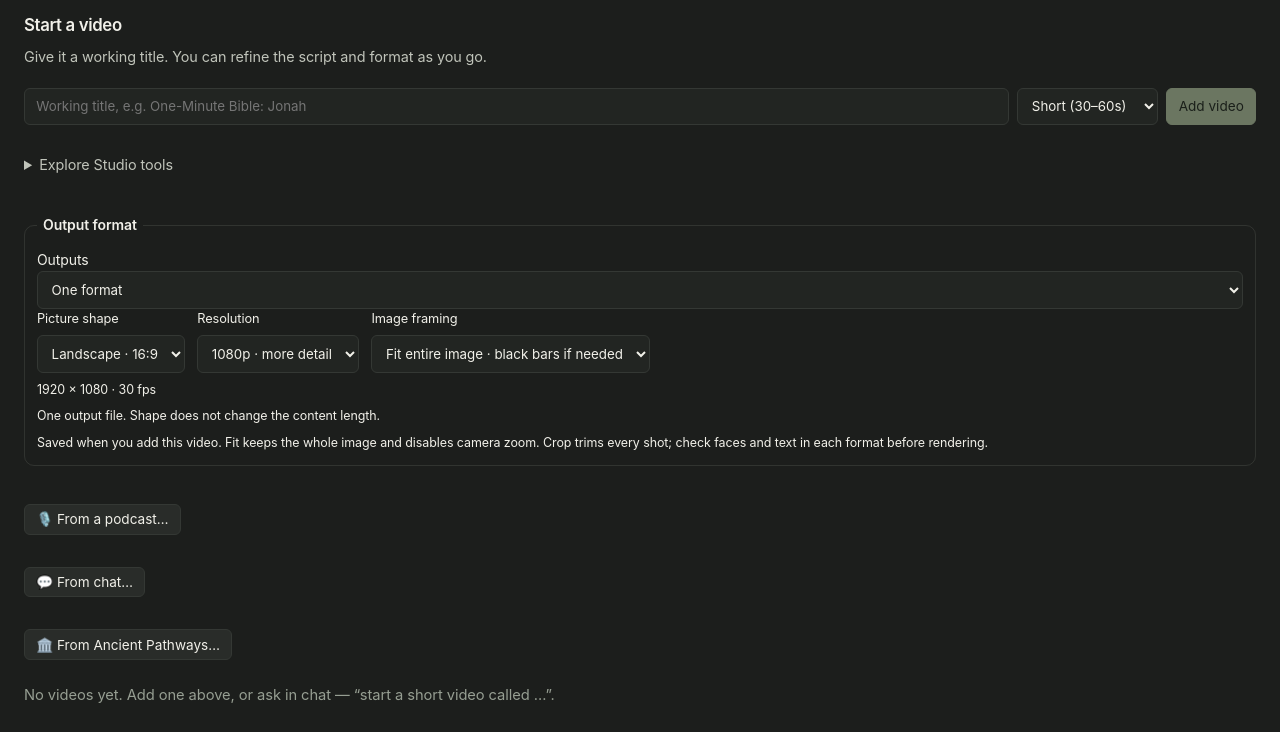
Test case: Media Studio — From Ancient Pathways › filters episodes dynamically with search input
(page scrolled)
Click the button "From Ancient Pathways…": [128, 645] box [24,629,232,660]
(page scrolled)
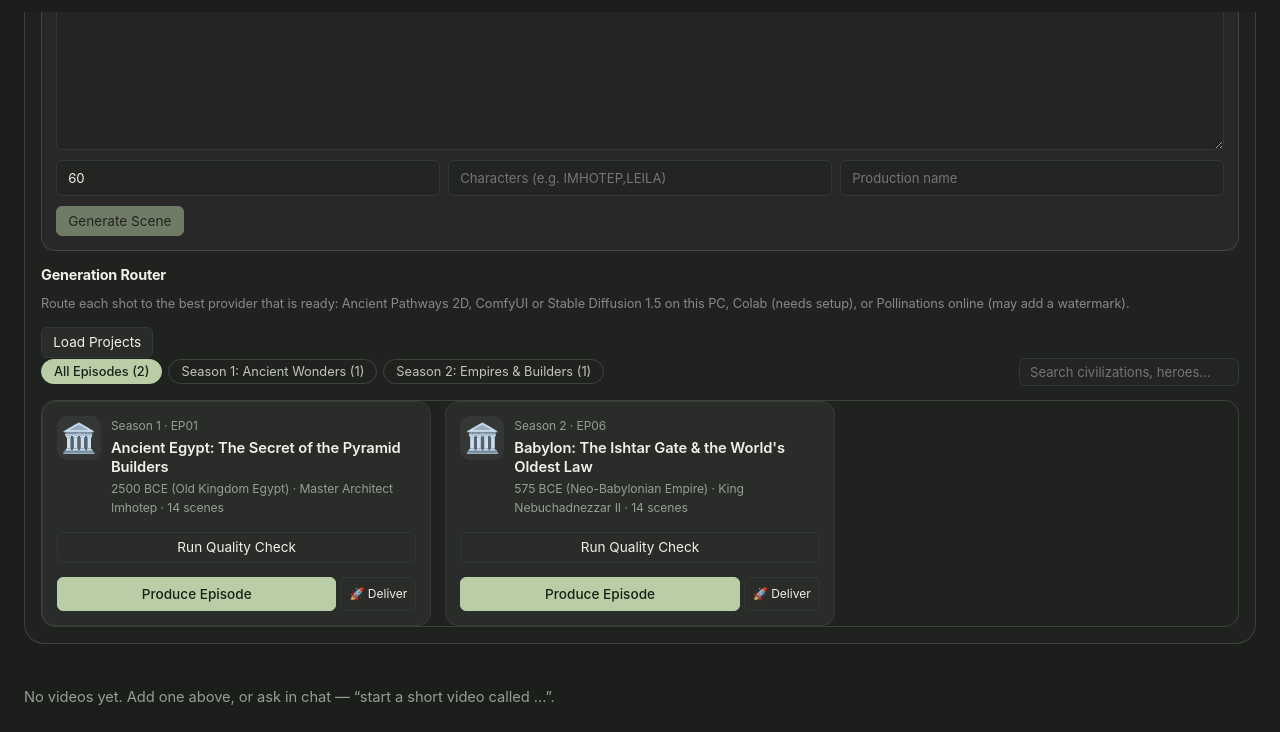
In the field named "Search episodes": [1129, 372] box [1019,358,1239,386], type "Egypt"
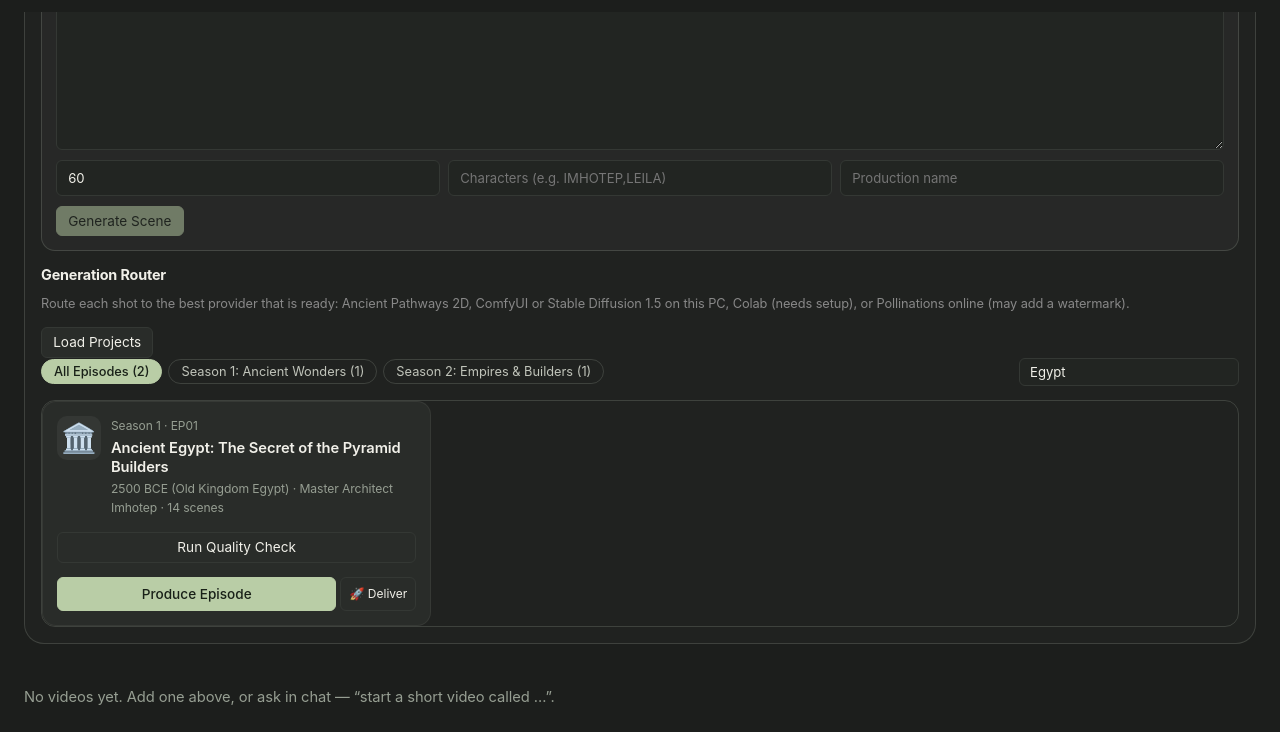
Now the text "Ancient Egypt: The Secret of the Pyramid Builders" is shown, box [111,439,416,477]
Now the text "Babylon: The Ishtar Gate" is gone
